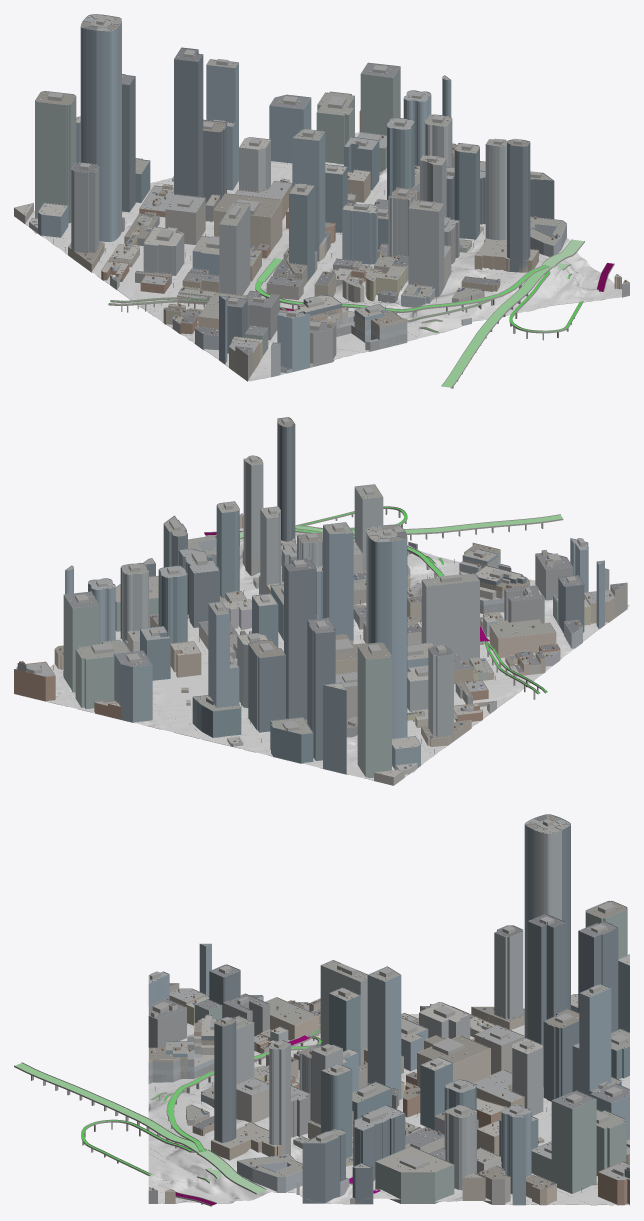
Rendered from rincon.glb.
The picture shows the model from 3 angles, top to bottom: view 1: azimuth 30°, elevation 25°; view 2: azimuth 150°, elevation 25°; view 3: azimuth 270°, elevation 25°; orthographic projection.
Visible parts, largest first — view 1: buildings, roofs, ground_block, ground_road, bridge_deck, bridge_struct, roof_props; view 2: buildings, roofs, ground_block, ground_road, bridge_struct, roof_props, bridge_deck; view 3: buildings, roofs, ground_block, ground_road, bridge_deck, bridge_struct, roof_props.
Part boxes in pixels (x1=…): buildings: x1=14, y1=14, x2=629, y2=381; roofs: x1=14, y1=14, x2=628, y2=370; ground_block: x1=25, y1=132, x2=621, y2=379; ground_road: x1=43, y1=162, x2=620, y2=381; bridge_deck: x1=109, y1=239, x2=613, y2=387; bridge_struct: x1=108, y1=239, x2=614, y2=388; roof_props: x1=24, y1=15, x2=626, y2=369; buildings: x1=14, y1=417, x2=627, y2=785; roofs: x1=14, y1=417, x2=626, y2=776; ground_block: x1=46, y1=528, x2=607, y2=780; ground_road: x1=50, y1=528, x2=629, y2=777; bridge_struct: x1=204, y1=506, x2=563, y2=699; roof_props: x1=39, y1=419, x2=619, y2=773; bridge_deck: x1=204, y1=507, x2=562, y2=693; buildings: x1=148, y1=814, x2=629, y2=1205; roofs: x1=148, y1=814, x2=629, y2=1198; ground_block: x1=148, y1=1014, x2=629, y2=1204; ground_road: x1=148, y1=1024, x2=629, y2=1204; bridge_deck: x1=15, y1=1029, x2=379, y2=1205; bridge_struct: x1=14, y1=1028, x2=380, y2=1206; roof_props: x1=151, y1=816, x2=628, y2=1190.
Bounding box in the file's own units: 689 × 335 × 849.
